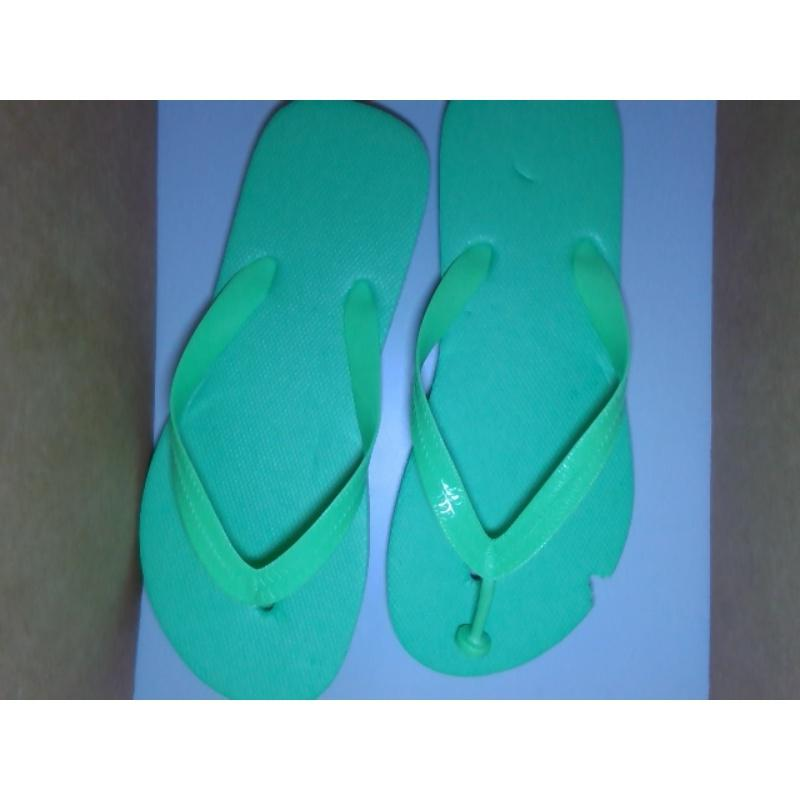chipped: (575, 555, 623, 622)
detached: (449, 602, 502, 666)
